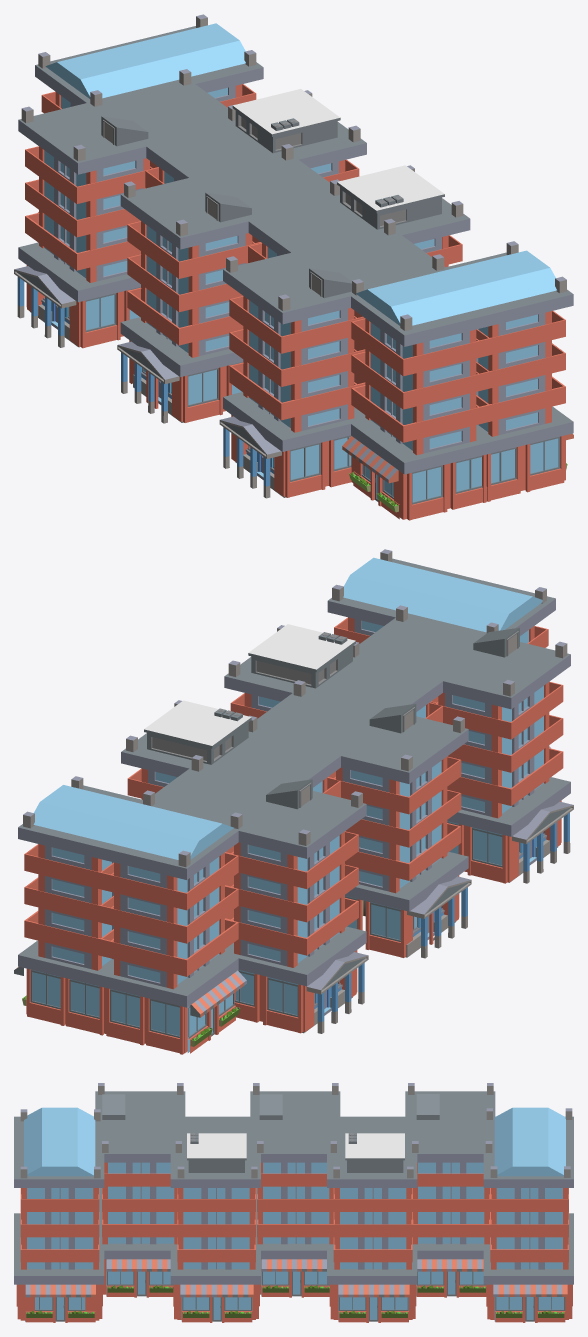
Rendered from putong_dajianzhu03.fbx.
3 views of the same model, one above another, from view 1: azimuth 30°, elevation 25°; view 2: azimuth 150°, elevation 25°; view 3: azimuth 270°, elevation 25° (orthographic). The views are drawn at different scales.
Parts seen in each view (by area): view 1: putong_dajianzhu03021, putong_dajianzhu03026, putong_dajianzhu03046, putong_dajianzhu03036, putong_dajianzhu03022, putong_dajianzhu03047, putong_dajianzhu03037, putong_dajianzhu03027, putong_dajianzhu03012, putong_dajianzhu03007, putong_dajianzhu03017, putong_dajianzhu03052 (+22 smaller); view 2: putong_dajianzhu03051, putong_dajianzhu03046, putong_dajianzhu03052, putong_dajianzhu03026, putong_dajianzhu03036, putong_dajianzhu03047, putong_dajianzhu03037, putong_dajianzhu03027, putong_dajianzhu03007, putong_dajianzhu03012, putong_dajianzhu03002, putong_dajianzhu03017 (+22 smaller); view 3: putong_dajianzhu03005, putong_dajianzhu03014, putong_dajianzhu03001, putong_dajianzhu03015, putong_dajianzhu03012, putong_dajianzhu03007, putong_dajianzhu03002, putong_dajianzhu03017, putong_dajianzhu03056, putong_dajianzhu03066, putong_dajianzhu03061, putong_dajianzhu03057 (+30 smaller).
Part boxes in pixels (x1,y1,x2,y2): putong_dajianzhu03021: [342, 420, 498, 520]; putong_dajianzhu03026: [219, 392, 356, 498]; putong_dajianzhu03046: [14, 242, 140, 348]; putong_dajianzhu03036: [117, 317, 243, 423]; putong_dajianzhu03022: [351, 270, 498, 355]; putong_dajianzhu03047: [18, 103, 171, 183]; putong_dajianzhu03037: [120, 178, 274, 258]; putong_dajianzhu03027: [223, 252, 355, 333]; putong_dajianzhu03012: [316, 165, 470, 252]; putong_dajianzhu03007: [232, 89, 366, 177]; putong_dajianzhu03017: [446, 241, 573, 337]; putong_dajianzhu03052: [35, 42, 188, 108]; putong_dajianzhu03051: [92, 948, 246, 1054]; putong_dajianzhu03046: [227, 926, 368, 1033]; putong_dajianzhu03052: [92, 803, 245, 890]; putong_dajianzhu03026: [447, 777, 573, 883]; putong_dajianzhu03036: [345, 852, 471, 958]; putong_dajianzhu03047: [221, 779, 366, 868]; putong_dajianzhu03037: [332, 703, 468, 794]; putong_dajianzhu03027: [427, 627, 570, 719]; putong_dajianzhu03007: [121, 700, 251, 786]; putong_dajianzhu03012: [224, 624, 355, 711]; putong_dajianzhu03002: [18, 776, 142, 871]; putong_dajianzhu03017: [327, 549, 461, 635]; putong_dajianzhu03005: [327, 1243, 417, 1322]; putong_dajianzhu03014: [170, 1241, 260, 1322]; putong_dajianzhu03001: [483, 1248, 573, 1322]; putong_dajianzhu03015: [14, 1248, 104, 1322]; putong_dajianzhu03012: [170, 1133, 260, 1194]; putong_dajianzhu03007: [327, 1133, 417, 1194]; putong_dajianzhu03002: [483, 1137, 573, 1194]; putong_dajianzhu03017: [14, 1137, 104, 1194]; putong_dajianzhu03056: [99, 1215, 173, 1297]; putong_dajianzhu03066: [416, 1243, 486, 1297]; putong_dajianzhu03061: [256, 1223, 329, 1297]; putong_dajianzhu03057: [95, 1119, 181, 1169].
Bounding box in the file's own units: 12.47 × 10.03 × 31.32.
